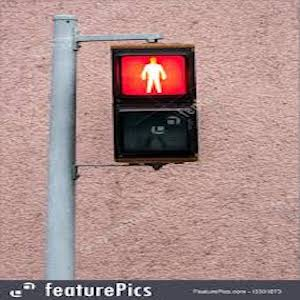red: (133, 54, 173, 98)
